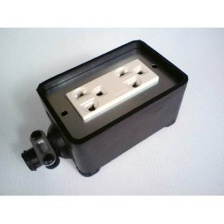three_eye_plug: (34, 37, 189, 179)
